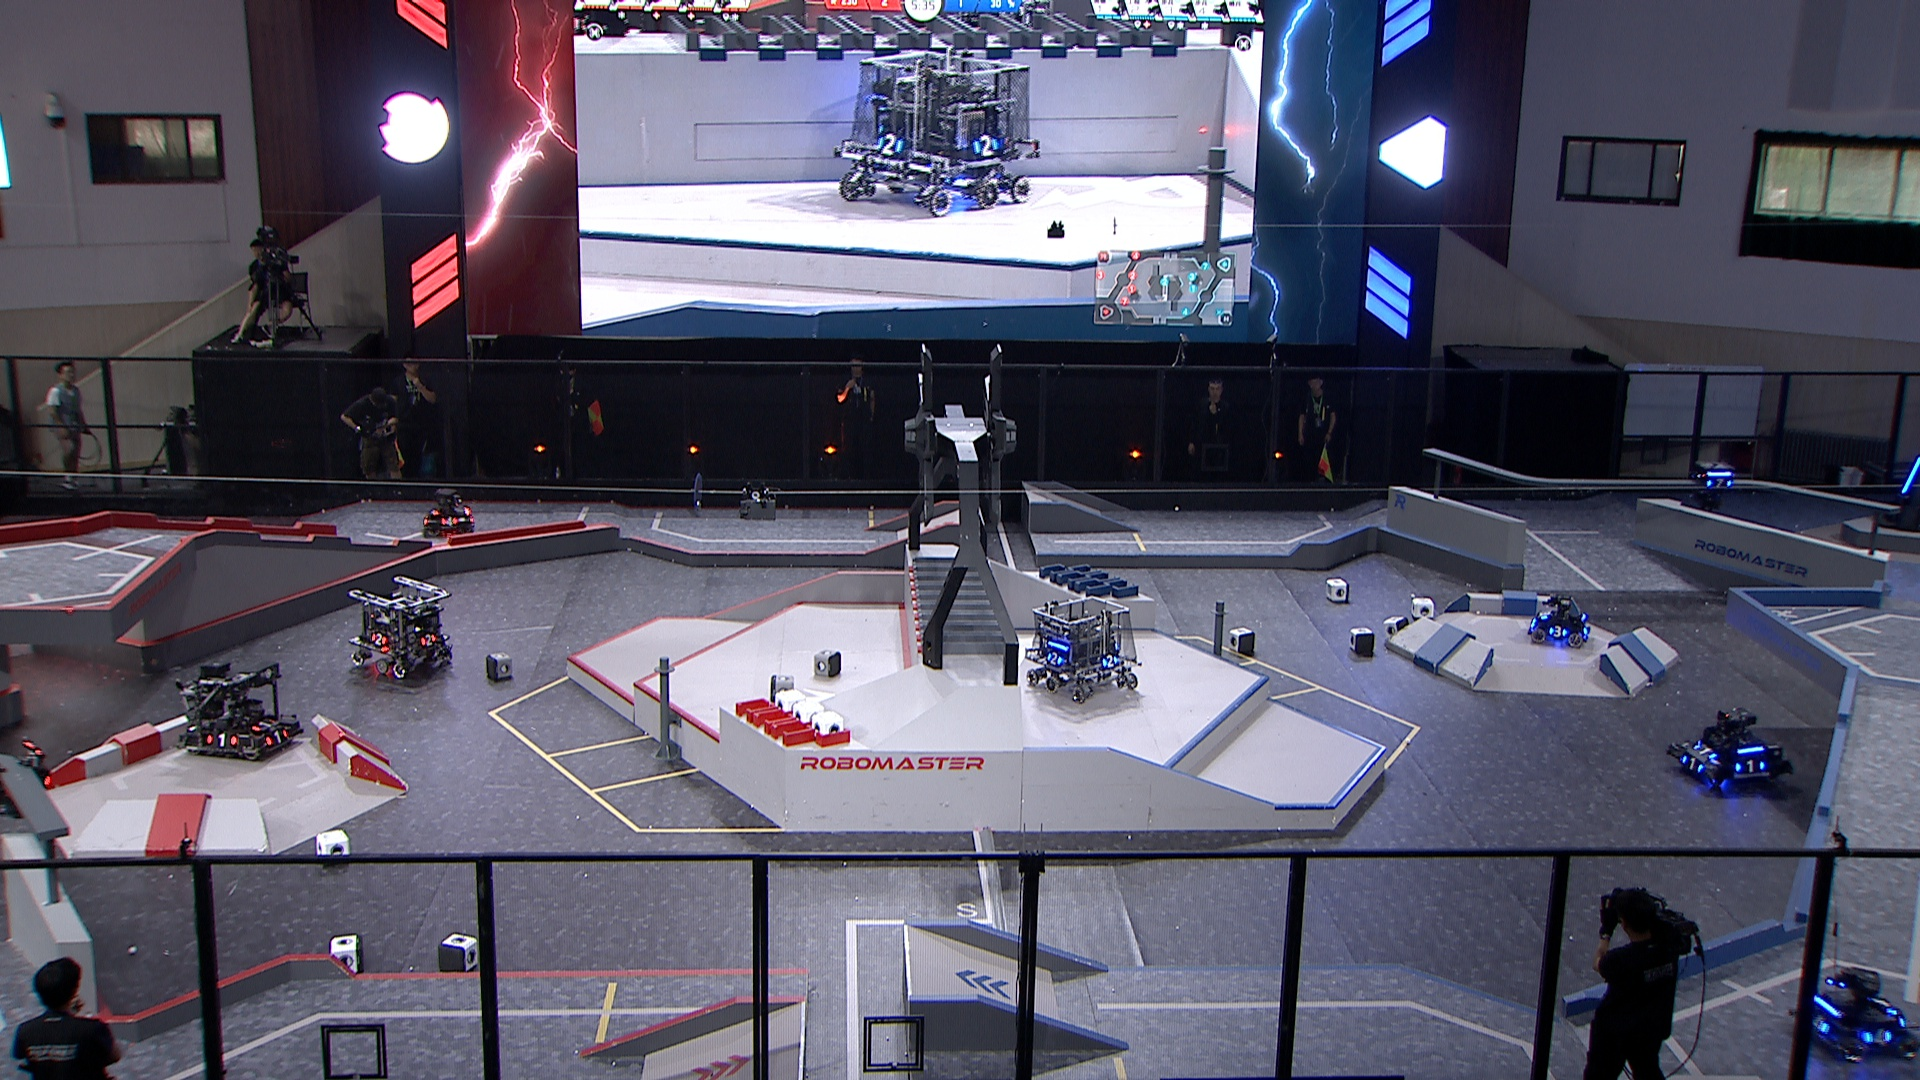armor: (1861, 1026, 1896, 1048), (1902, 456, 1920, 495), (1809, 1011, 1836, 1036), (1731, 757, 1768, 774), (1871, 996, 1899, 1017), (206, 732, 237, 749), (1679, 756, 1706, 774), (251, 717, 277, 735), (264, 731, 290, 746), (1693, 745, 1720, 761), (1705, 477, 1733, 491), (1048, 651, 1068, 670), (1100, 654, 1120, 670), (1548, 624, 1569, 638), (371, 632, 389, 647), (418, 633, 438, 647), (440, 516, 460, 529), (1538, 609, 1553, 621)
base: (1874, 446, 1920, 534)
car: (173, 661, 309, 764), (1022, 593, 1143, 705), (1785, 965, 1920, 1063), (348, 572, 454, 680), (1665, 704, 1795, 789), (1524, 595, 1596, 650), (419, 487, 477, 537)
ignore: (831, 47, 1040, 216)
watcher: (1692, 460, 1737, 510)
